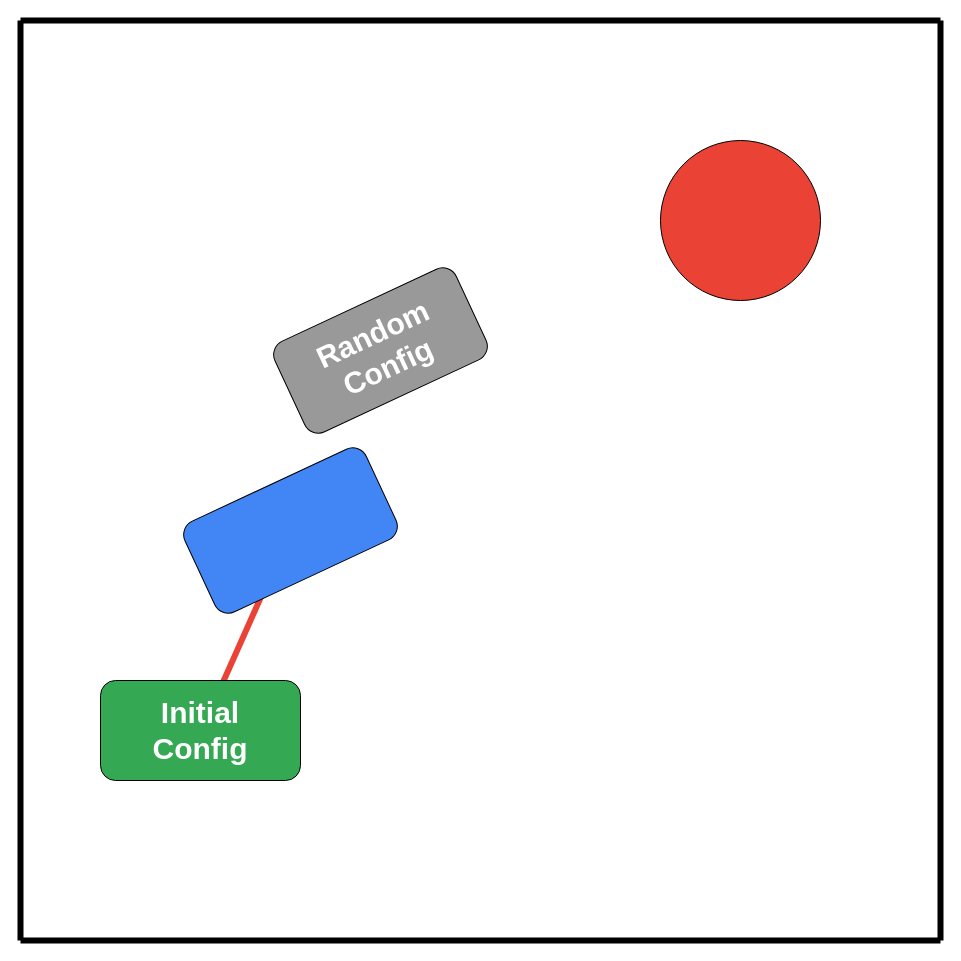
Some shapes in this 961 by 961 pixel diagram are drawn without their labels. The shapes that lost their labels are listed below. From the top down, each one's centre as x and y in pixels, then its label:
At point 740,220: "Goal".
At point 290,530: "New Config".
